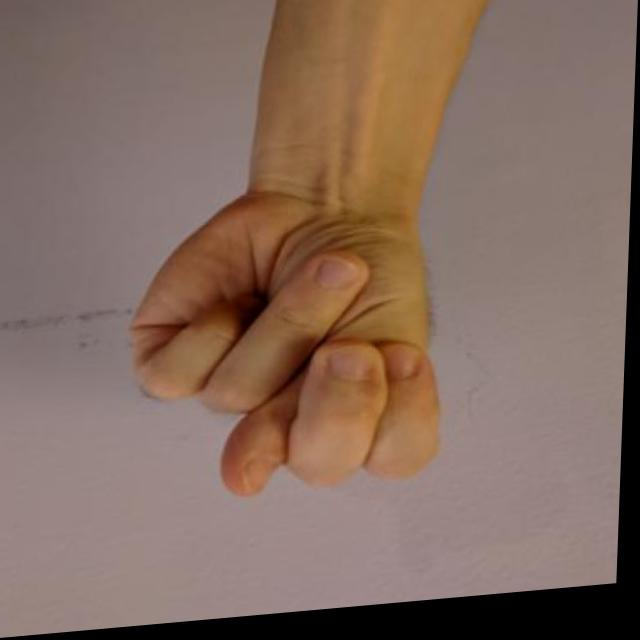N: (120, 176, 461, 529)
